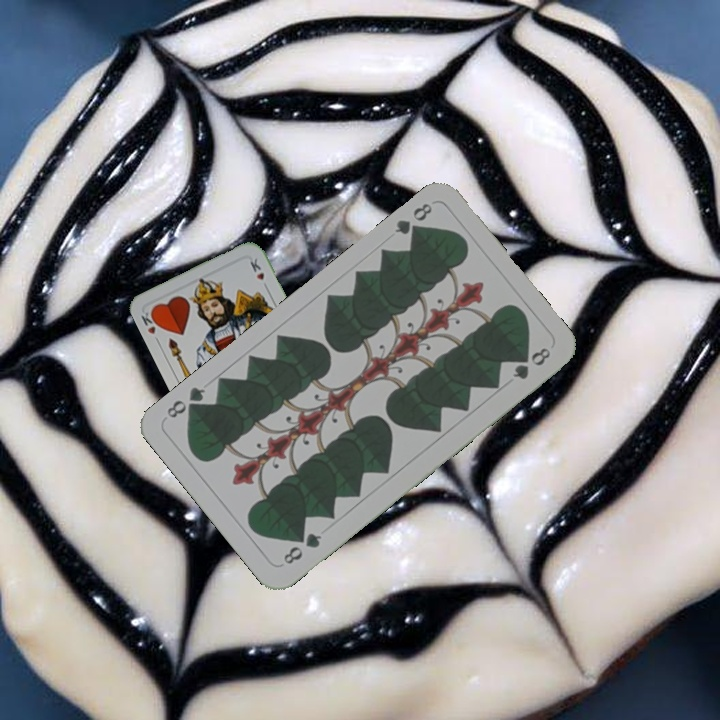G8: (390, 199, 435, 242), (279, 528, 324, 567)
HK: (137, 306, 163, 346)
